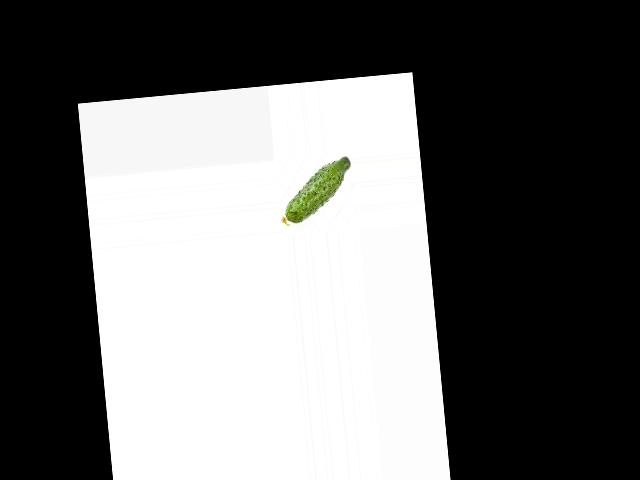cucumber: (275, 155, 355, 226)
